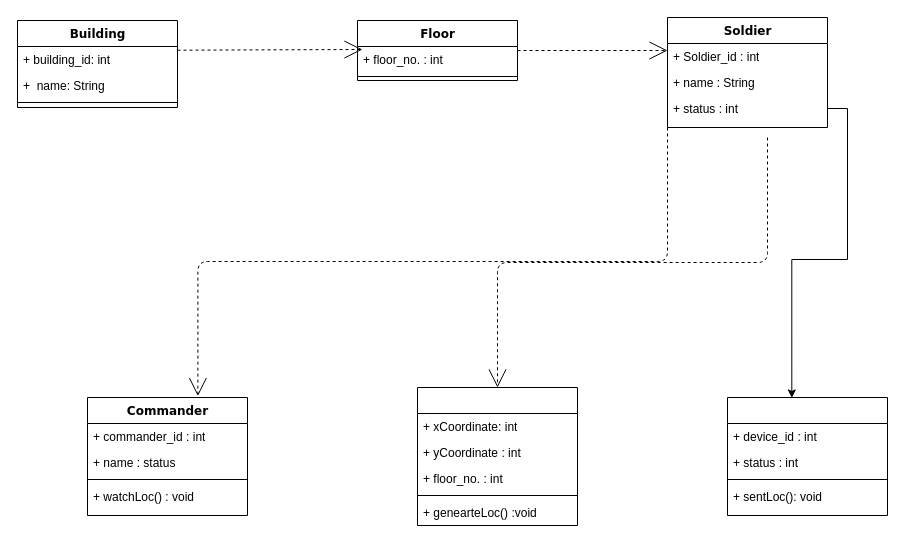
This 905x546 diagram has some shape labels left out. The shapes that lost their labels are listed below. From the top down, each one's box as (x1, y1, x2, y2) in pixels, then its label:
(416, 386, 578, 526): Location
(726, 396, 888, 516): TrackerDevice
